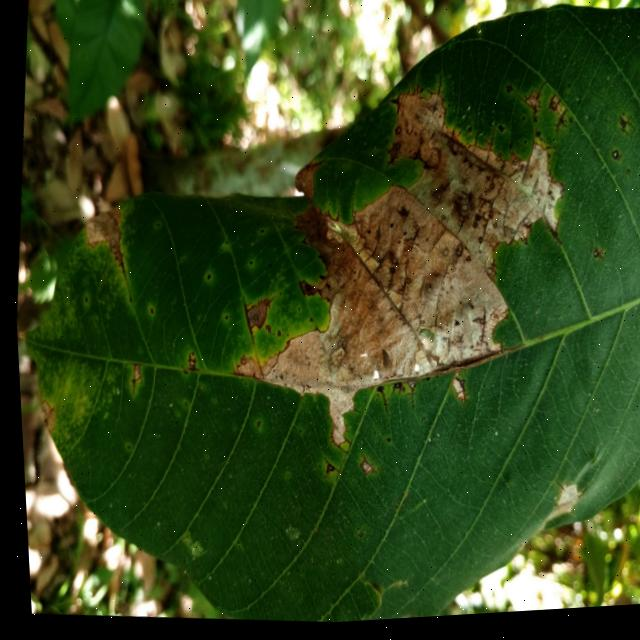Colletotrichum: (437, 253, 444, 262), (384, 271, 392, 278), (451, 254, 458, 262), (468, 227, 475, 235), (392, 131, 399, 139), (504, 90, 510, 99), (588, 257, 594, 265), (495, 131, 501, 138), (486, 189, 492, 196), (235, 361, 241, 367), (473, 243, 479, 249), (351, 535, 356, 542), (489, 228, 494, 235), (145, 309, 150, 315), (385, 227, 390, 233), (462, 261, 467, 267), (458, 184, 463, 190), (416, 143, 421, 149), (437, 219, 442, 225), (250, 423, 254, 430), (203, 276, 207, 282), (363, 233, 367, 239), (178, 404, 182, 409), (178, 372, 182, 376), (220, 318, 224, 322), (402, 284, 406, 288), (507, 235, 511, 239), (245, 263, 248, 268), (519, 122, 522, 127), (293, 432, 296, 436), (305, 320, 308, 324), (273, 334, 276, 338), (396, 392, 399, 396), (427, 391, 430, 395), (565, 90, 568, 94), (421, 243, 424, 247), (466, 133, 469, 137), (367, 436, 370, 439), (482, 144, 484, 148), (293, 310, 295, 312)
Corynespora: (519, 88, 543, 130), (396, 233, 418, 276), (234, 297, 253, 346), (465, 314, 485, 349), (437, 133, 464, 158), (122, 364, 139, 399), (447, 381, 465, 411), (550, 114, 567, 144), (480, 136, 495, 168), (314, 459, 333, 483), (109, 251, 124, 279), (322, 436, 341, 457), (353, 458, 372, 479), (393, 279, 406, 306), (373, 394, 385, 422), (180, 353, 195, 375), (398, 391, 411, 416), (614, 123, 630, 142), (381, 155, 397, 173), (545, 100, 559, 118), (452, 220, 464, 240), (432, 80, 442, 102), (258, 297, 271, 313), (385, 384, 398, 400), (484, 264, 494, 280)
Leaf-Blight: (209, 65, 581, 474), (288, 163, 320, 209), (241, 305, 262, 331), (607, 156, 617, 168)
